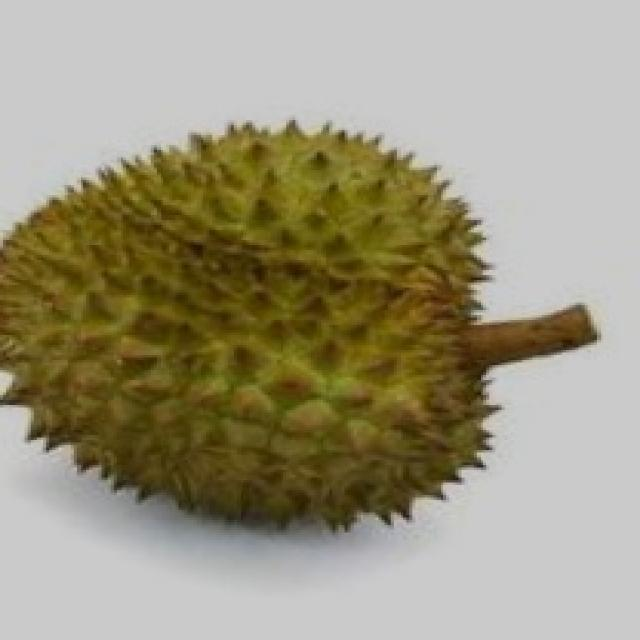fruit: (0, 180, 338, 585)
